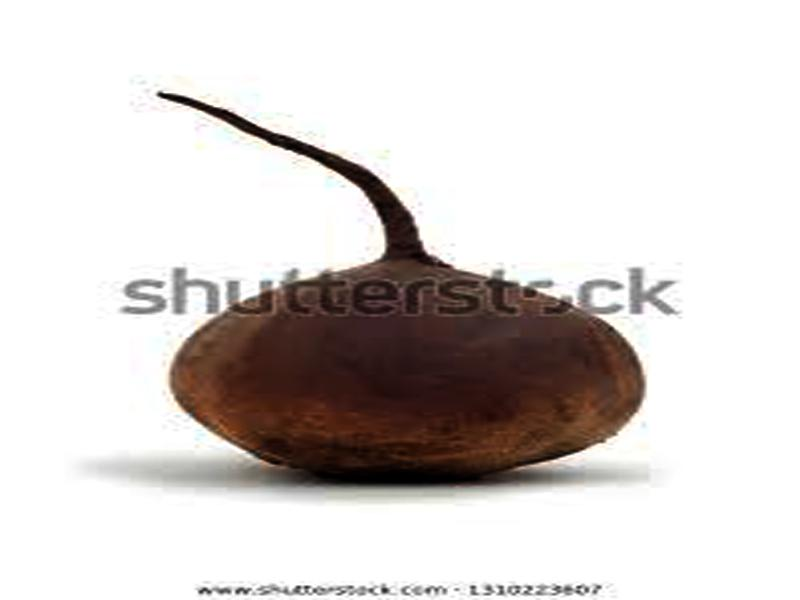Beet: (158, 91, 650, 483)
